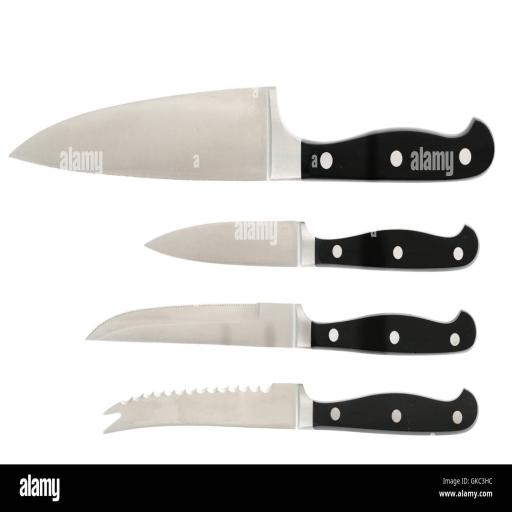knife: (4, 81, 496, 195)
